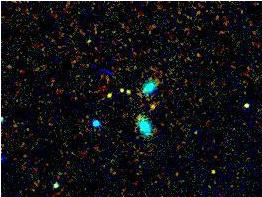star: (138, 91, 168, 121)
